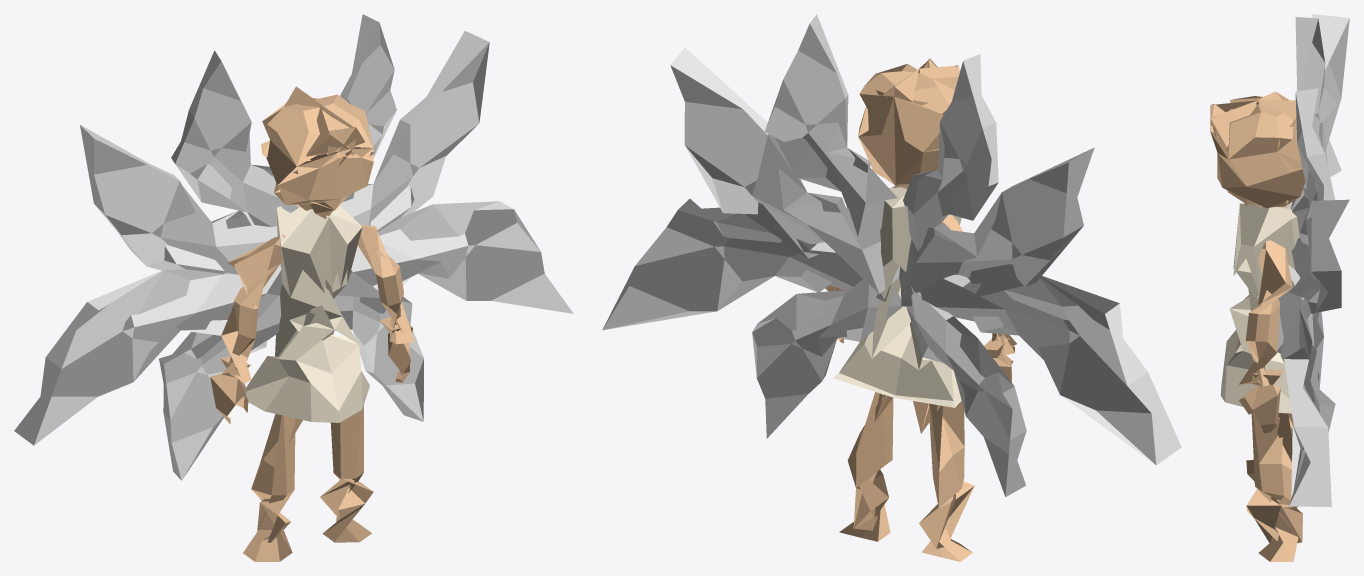
The model's file is angel ghost.fbx.
3 views of the same model, side by side, from view 1: azimuth 30°, elevation 25°; view 2: azimuth 150°, elevation 25°; view 3: azimuth 270°, elevation 25° (orthographic). The views are drawn at different scales.
Parts seen in each view (by area): view 1: wing 3, wing 2, torso, wing 1, wing 4, head, leg, arm, hand; view 2: wing 3, wing 2, wing 1, wing 4, leg, torso, head; view 3: head, wing 2, torso, wing 3, wing 1, leg, arm, wing 4, hand.
Boxes of the visible parts, x1,y1,x2,y2 form: wing 3: (14, 201, 573, 445); wing 2: (80, 31, 489, 274); torso: (246, 205, 369, 422); wing 1: (171, 14, 396, 227); wing 4: (159, 295, 423, 480); head: (261, 86, 373, 218); leg: (243, 402, 373, 561); arm: (221, 224, 414, 383); hand: (210, 317, 410, 424); wing 3: (602, 198, 1181, 465); wing 2: (670, 48, 1094, 299); wing 1: (765, 14, 998, 250); wing 4: (752, 276, 1026, 497); leg: (839, 392, 974, 561); torso: (833, 186, 961, 407); head: (858, 58, 959, 188); head: (1210, 91, 1305, 208); wing 2: (1289, 14, 1349, 313); torso: (1220, 202, 1299, 413); wing 3: (1277, 265, 1331, 507); wing 1: (1291, 17, 1336, 244); leg: (1246, 412, 1302, 561); arm: (1239, 240, 1292, 386); wing 4: (1291, 312, 1335, 497); hand: (1239, 369, 1282, 433).
Bounding box in the file's own units: 176 × 155 × 40.69.
